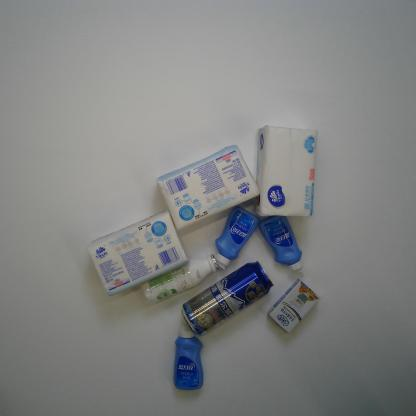Alcohol: (180, 260, 274, 338)
Milk: (140, 252, 220, 306), (267, 278, 321, 334)
Personal Hygiene: (214, 205, 260, 270), (258, 215, 305, 273), (173, 324, 204, 391)
Tissue: (154, 144, 260, 232), (86, 210, 190, 298), (251, 124, 319, 218)
